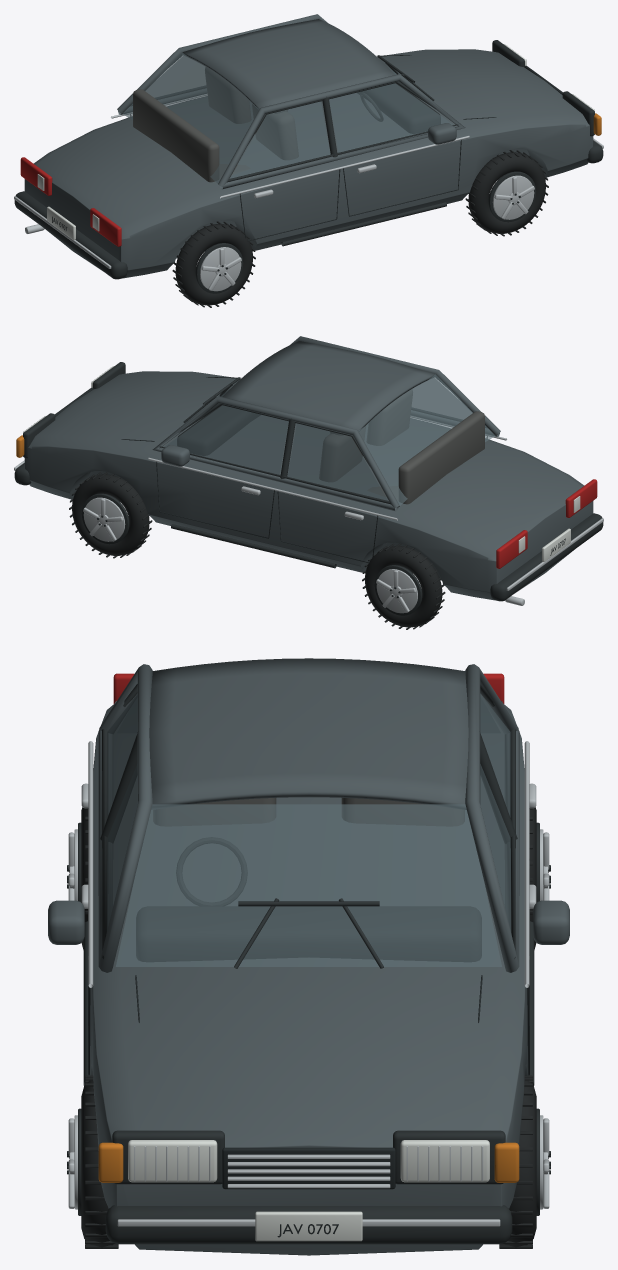
Rendered from sedan.glb.
3 views of the same model, one above another, from view 1: azimuth 30°, elevation 25°; view 2: azimuth 150°, elevation 25°; view 3: azimuth 270°, elevation 25° (orthographic). The views are drawn at different scales.
Parts seen in each view (by area): view 1: Paint_Charcoal, Glass_Tinted, Window_Rubber, Interior_Fabric, Rubber_Tires, Alloy_and_Chrome, Rear_Red_Lenses, Panel_Seams, Headlight_Reflectors; view 2: Paint_Charcoal, Glass_Tinted, Window_Rubber, Interior_Fabric, Rubber_Tires, Alloy_and_Chrome, Rear_Red_Lenses, Panel_Seams, Headlight_Reflectors; view 3: Paint_Charcoal, Glass_Tinted, Window_Rubber, Alloy_and_Chrome, Headlight_Reflectors, Rubber_Tires, Panel_Seams, Interior_Fabric, Indicator_Lenses.
Boxes of the visible parts, bbox=[...] form: Paint_Charcoal: bbox=[24, 14, 593, 278]; Glass_Tinted: bbox=[123, 52, 454, 183]; Window_Rubber: bbox=[14, 40, 603, 293]; Interior_Fabric: bbox=[133, 67, 298, 182]; Rubber_Tires: bbox=[172, 150, 548, 307]; Alloy_and_Chrome: bbox=[14, 53, 603, 291]; Rear_Red_Lenses: bbox=[20, 157, 121, 246]; Panel_Seams: bbox=[52, 55, 562, 275]; Headlight_Reflectors: bbox=[37, 44, 594, 239]; Paint_Charcoal: bbox=[24, 336, 593, 600]; Glass_Tinted: bbox=[163, 374, 494, 505]; Window_Rubber: bbox=[14, 362, 603, 615]; Interior_Fabric: bbox=[319, 389, 484, 504]; Rubber_Tires: bbox=[69, 472, 445, 629]; Alloy_and_Chrome: bbox=[14, 373, 603, 613]; Rear_Red_Lenses: bbox=[496, 479, 597, 568]; Panel_Seams: bbox=[55, 377, 565, 597]; Headlight_Reflectors: bbox=[23, 366, 580, 561]; Paint_Charcoal: bbox=[48, 658, 569, 1255]; Glass_Tinted: bbox=[107, 694, 510, 966]; Window_Rubber: bbox=[78, 684, 539, 1244]; Alloy_and_Chrome: bbox=[68, 741, 549, 1226]; Headlight_Reflectors: bbox=[128, 1140, 489, 1241]; Rubber_Tires: bbox=[81, 807, 536, 1248]; Panel_Seams: bbox=[67, 859, 550, 1237]; Interior_Fabric: bbox=[153, 798, 464, 826]; Indicator_Lenses: bbox=[98, 1142, 519, 1182].
Bounding box in the file's own units: 4.39 × 1.51 × 1.99.
